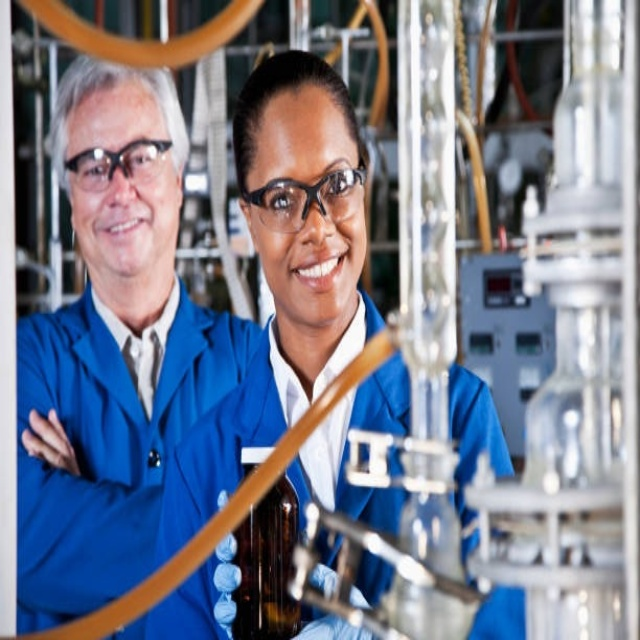Gafas: (241, 163, 368, 232), (64, 137, 172, 192)
Guantes: (210, 482, 242, 634)
Sin_guantes: (22, 406, 81, 475)
Sin_mascara: (290, 240, 353, 312), (95, 209, 155, 264)
